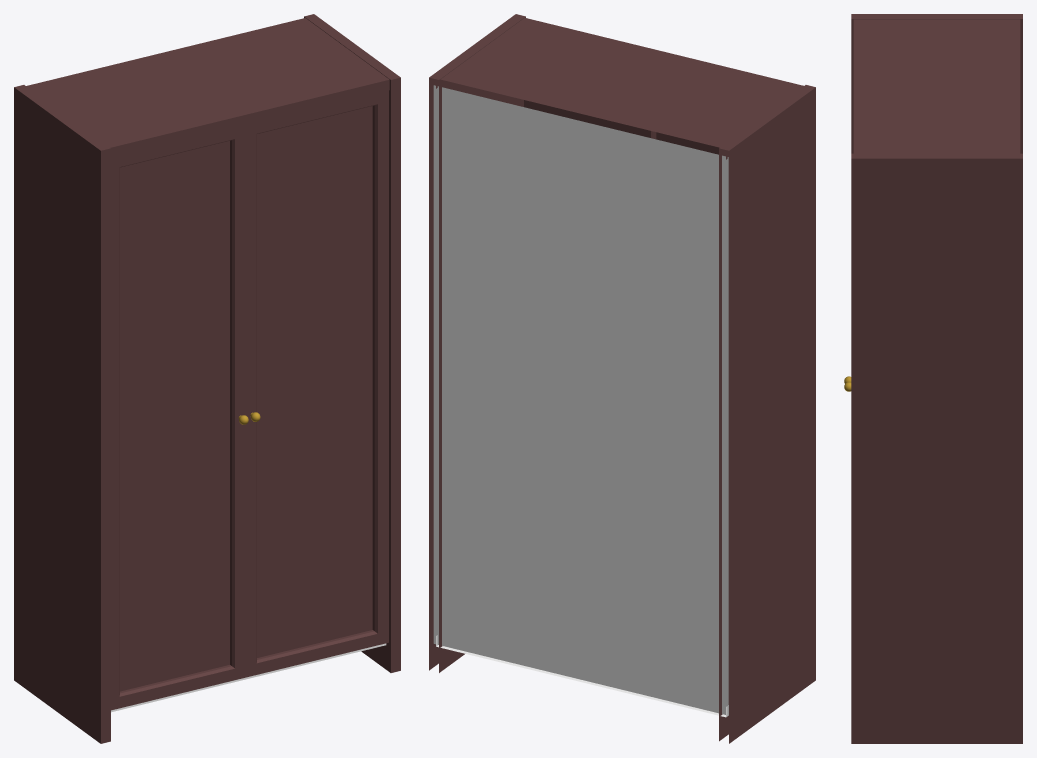
Rendered from wardrobe.obj.
3 views of the same model, side by side, from view 1: azimuth 30°, elevation 25°; view 2: azimuth 150°, elevation 25°; view 3: azimuth 270°, elevation 25° (orthographic).
Parts seen in each view (by area): view 1: wardrobe; view 2: wardrobe; view 3: wardrobe.
Part boxes in pixels (x1,y1,x2,y2): wardrobe: [14, 14, 400, 743]; wardrobe: [429, 14, 815, 743]; wardrobe: [844, 14, 1022, 743].
Size of the model in its own units: 0.9896 by 1.87 by 0.517.
